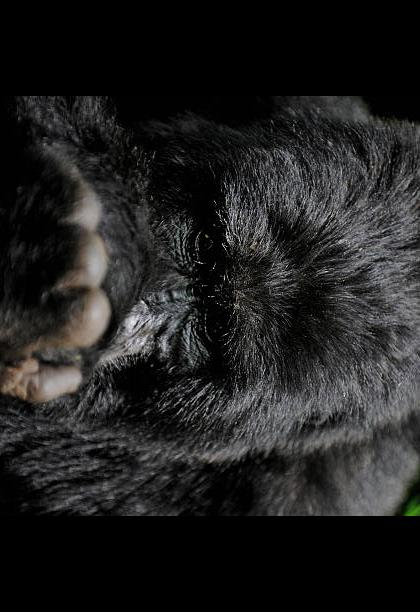goriile_montagne: (0, 96, 420, 516)
